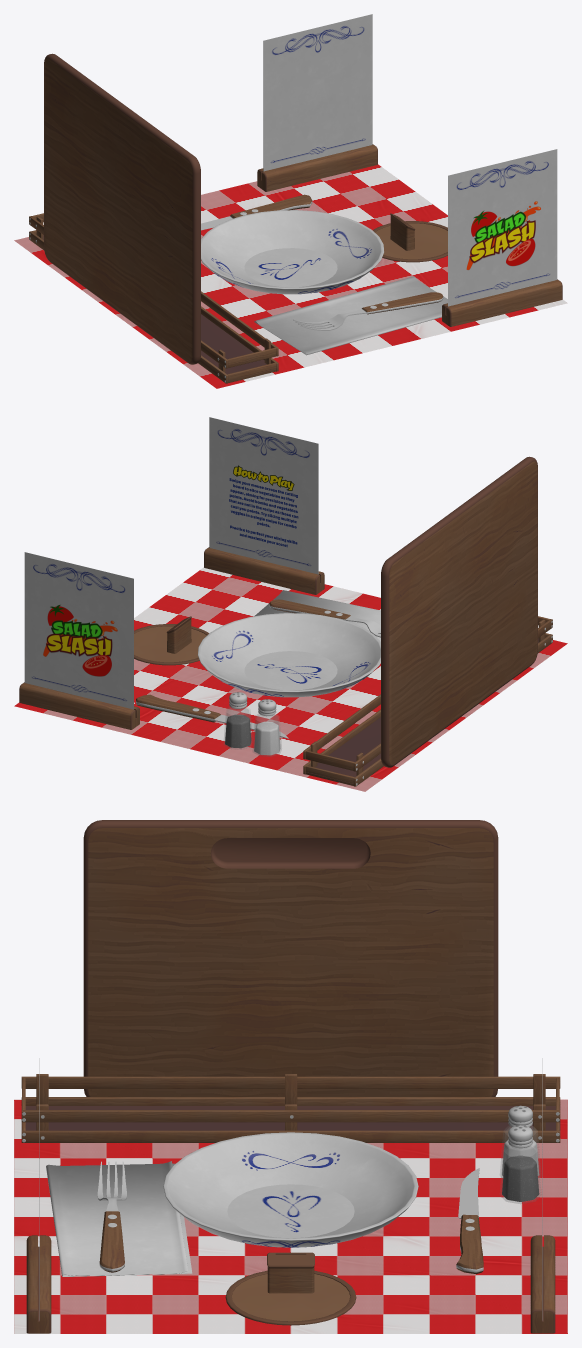
The model's file is environment.glb.
The picture shows the model from 3 angles, top to bottom: view 1: azimuth 30°, elevation 25°; view 2: azimuth 150°, elevation 25°; view 3: azimuth 270°, elevation 25°; orthographic projection. The views are drawn at different scales.
Parts seen in each view (by area): view 1: Board, Scoreboard, TableCloth, Plate, Napkin, ScoreBoardBase, Plane.002, Coaster, Bottom, ForkHandle, Cube.002, KnifeHandle (+5 smaller); view 2: Board, Scoreboard, TableCloth, Plate, ScoreBoardBase, Plane.001, Plane, Coaster, Napkin, Bottom, Cylinder.009, Cylinder.006 (+9 smaller); view 3: Board, TableCloth, Plate, Napkin, Cube.002, Cube.004, Bottom, Cube.003, ScoreBoardBase, Coaster, Cube.005, Cylinder.006 (+6 smaller).
Boxes of the visible parts, x1,y1,x2,y2 form: Board: [44, 53, 200, 364]; Scoreboard: [263, 14, 557, 306]; TableCloth: [14, 164, 567, 388]; Plate: [201, 210, 384, 294]; Napkin: [254, 276, 447, 355]; ScoreBoardBase: [257, 144, 562, 326]; Plane.002: [466, 201, 540, 269]; Coaster: [373, 221, 447, 262]; Bottom: [43, 235, 273, 380]; ForkHandle: [361, 292, 443, 314]; Cube.002: [201, 291, 278, 356]; KnifeHandle: [230, 194, 312, 218]; Board: [381, 456, 537, 767]; Scoreboard: [24, 417, 318, 709]; TableCloth: [14, 567, 567, 791]; Plate: [197, 613, 380, 697]; ScoreBoardBase: [19, 547, 324, 729]; Plane.001: [43, 605, 117, 676]; Plane: [229, 465, 298, 547]; Coaster: [134, 624, 208, 665]; Napkin: [254, 590, 380, 641]; Bottom: [306, 638, 538, 783]; Cylinder.009: [252, 714, 281, 756]; Cylinder.006: [223, 707, 252, 749]; Board: [83, 820, 498, 1096]; TableCloth: [14, 1099, 567, 1333]; Plate: [163, 1132, 418, 1247]; Napkin: [46, 1161, 192, 1276]; Cube.002: [21, 1110, 560, 1122]; Cube.004: [21, 1076, 560, 1088]; Bottom: [21, 1106, 560, 1130]; Cube.003: [21, 1130, 560, 1142]; ScoreBoardBase: [26, 1235, 555, 1333]; Coaster: [225, 1270, 356, 1325]; Cube.005: [21, 1097, 560, 1105]; Cylinder.006: [500, 1145, 540, 1203].
Size of what is drawn, in the model's own units: 16 by 9.3 by 16.
Materials: 9 (8 with a texture image).
